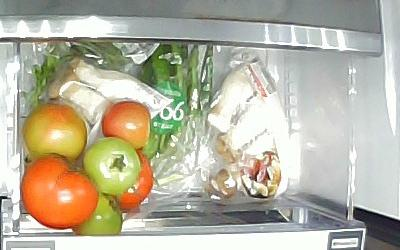tomato: (19, 151, 98, 229), (21, 101, 87, 163), (83, 137, 141, 195), (100, 100, 152, 150), (109, 150, 152, 209), (70, 189, 123, 235)
